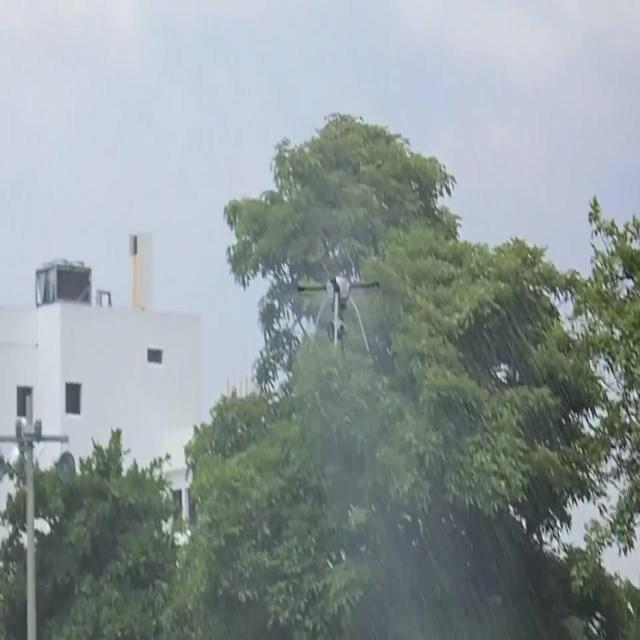UAV: (297, 276, 380, 358)
